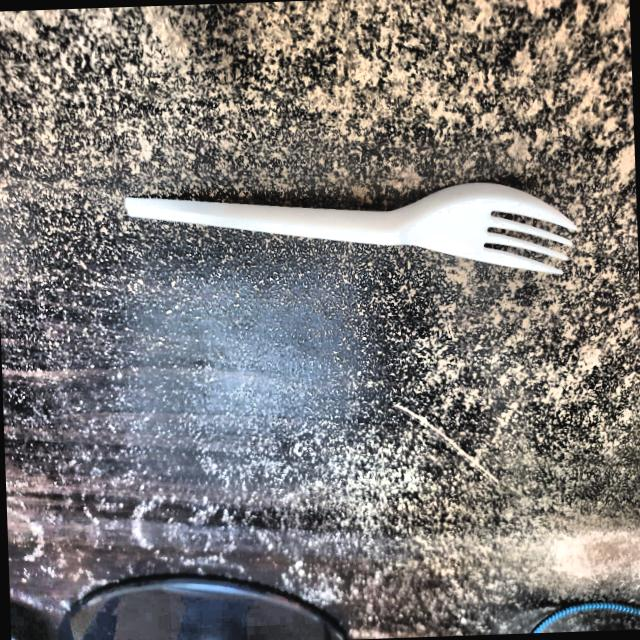plastic utensil: (122, 176, 592, 294)
